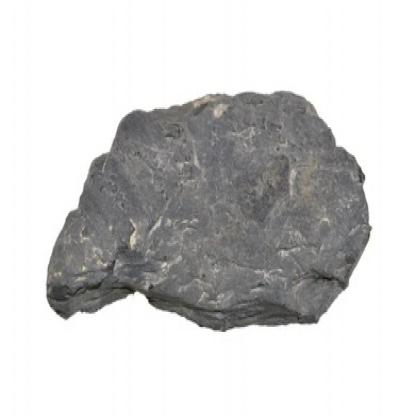Sedimentary_coal: (41, 63, 376, 353)
